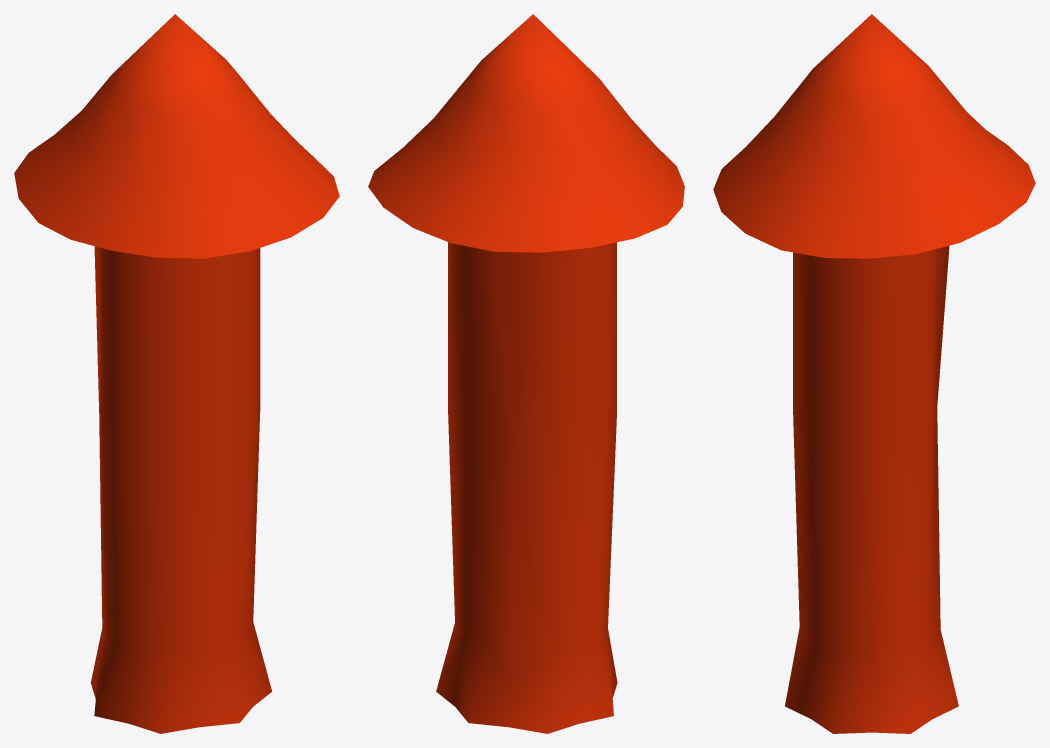
File: rocket1.fbx
The picture shows the model from 3 angles, left to right: view 1: azimuth 30°, elevation 25°; view 2: azimuth 150°, elevation 25°; view 3: azimuth 270°, elevation 25°; orthographic projection.
Visible parts, largest first — view 1: pCylinder2; view 2: pCylinder2; view 3: pCylinder2.
Part boxes in pixels (x1,y1,x2,y2): pCylinder2: (14, 14, 339, 733); pCylinder2: (368, 14, 684, 733); pCylinder2: (713, 14, 1035, 733).
Size of the model in its own units: 2.89 by 6.88 by 2.95.
